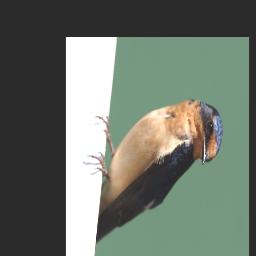Swallow: (83, 89, 225, 256)
